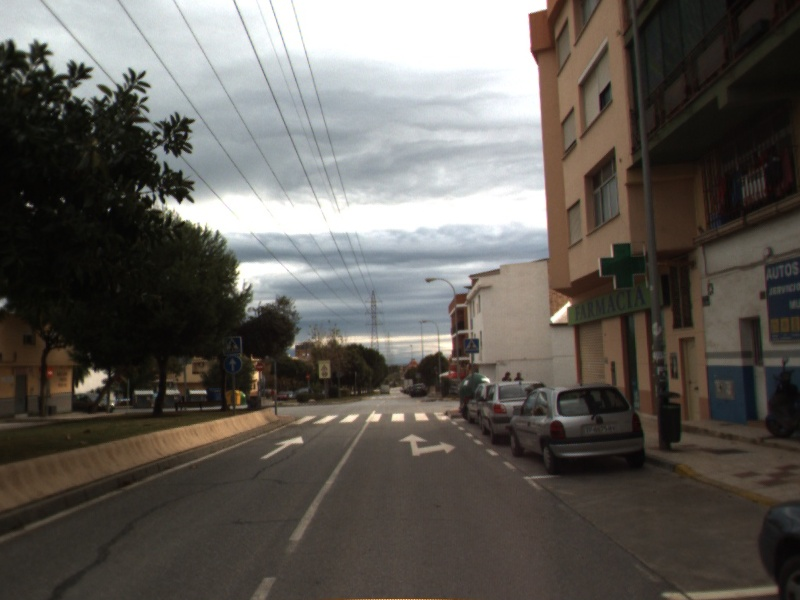STRAIGHT: (258, 434, 306, 461)
STRAIGHT_RIGHT: (397, 431, 458, 458)
